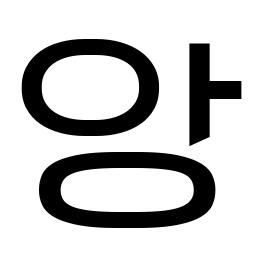Gaji: (173, 68, 228, 117)
